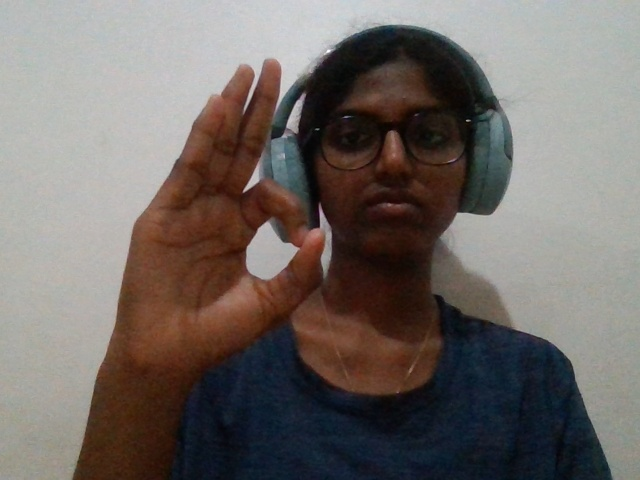F: (65, 49, 359, 478)
